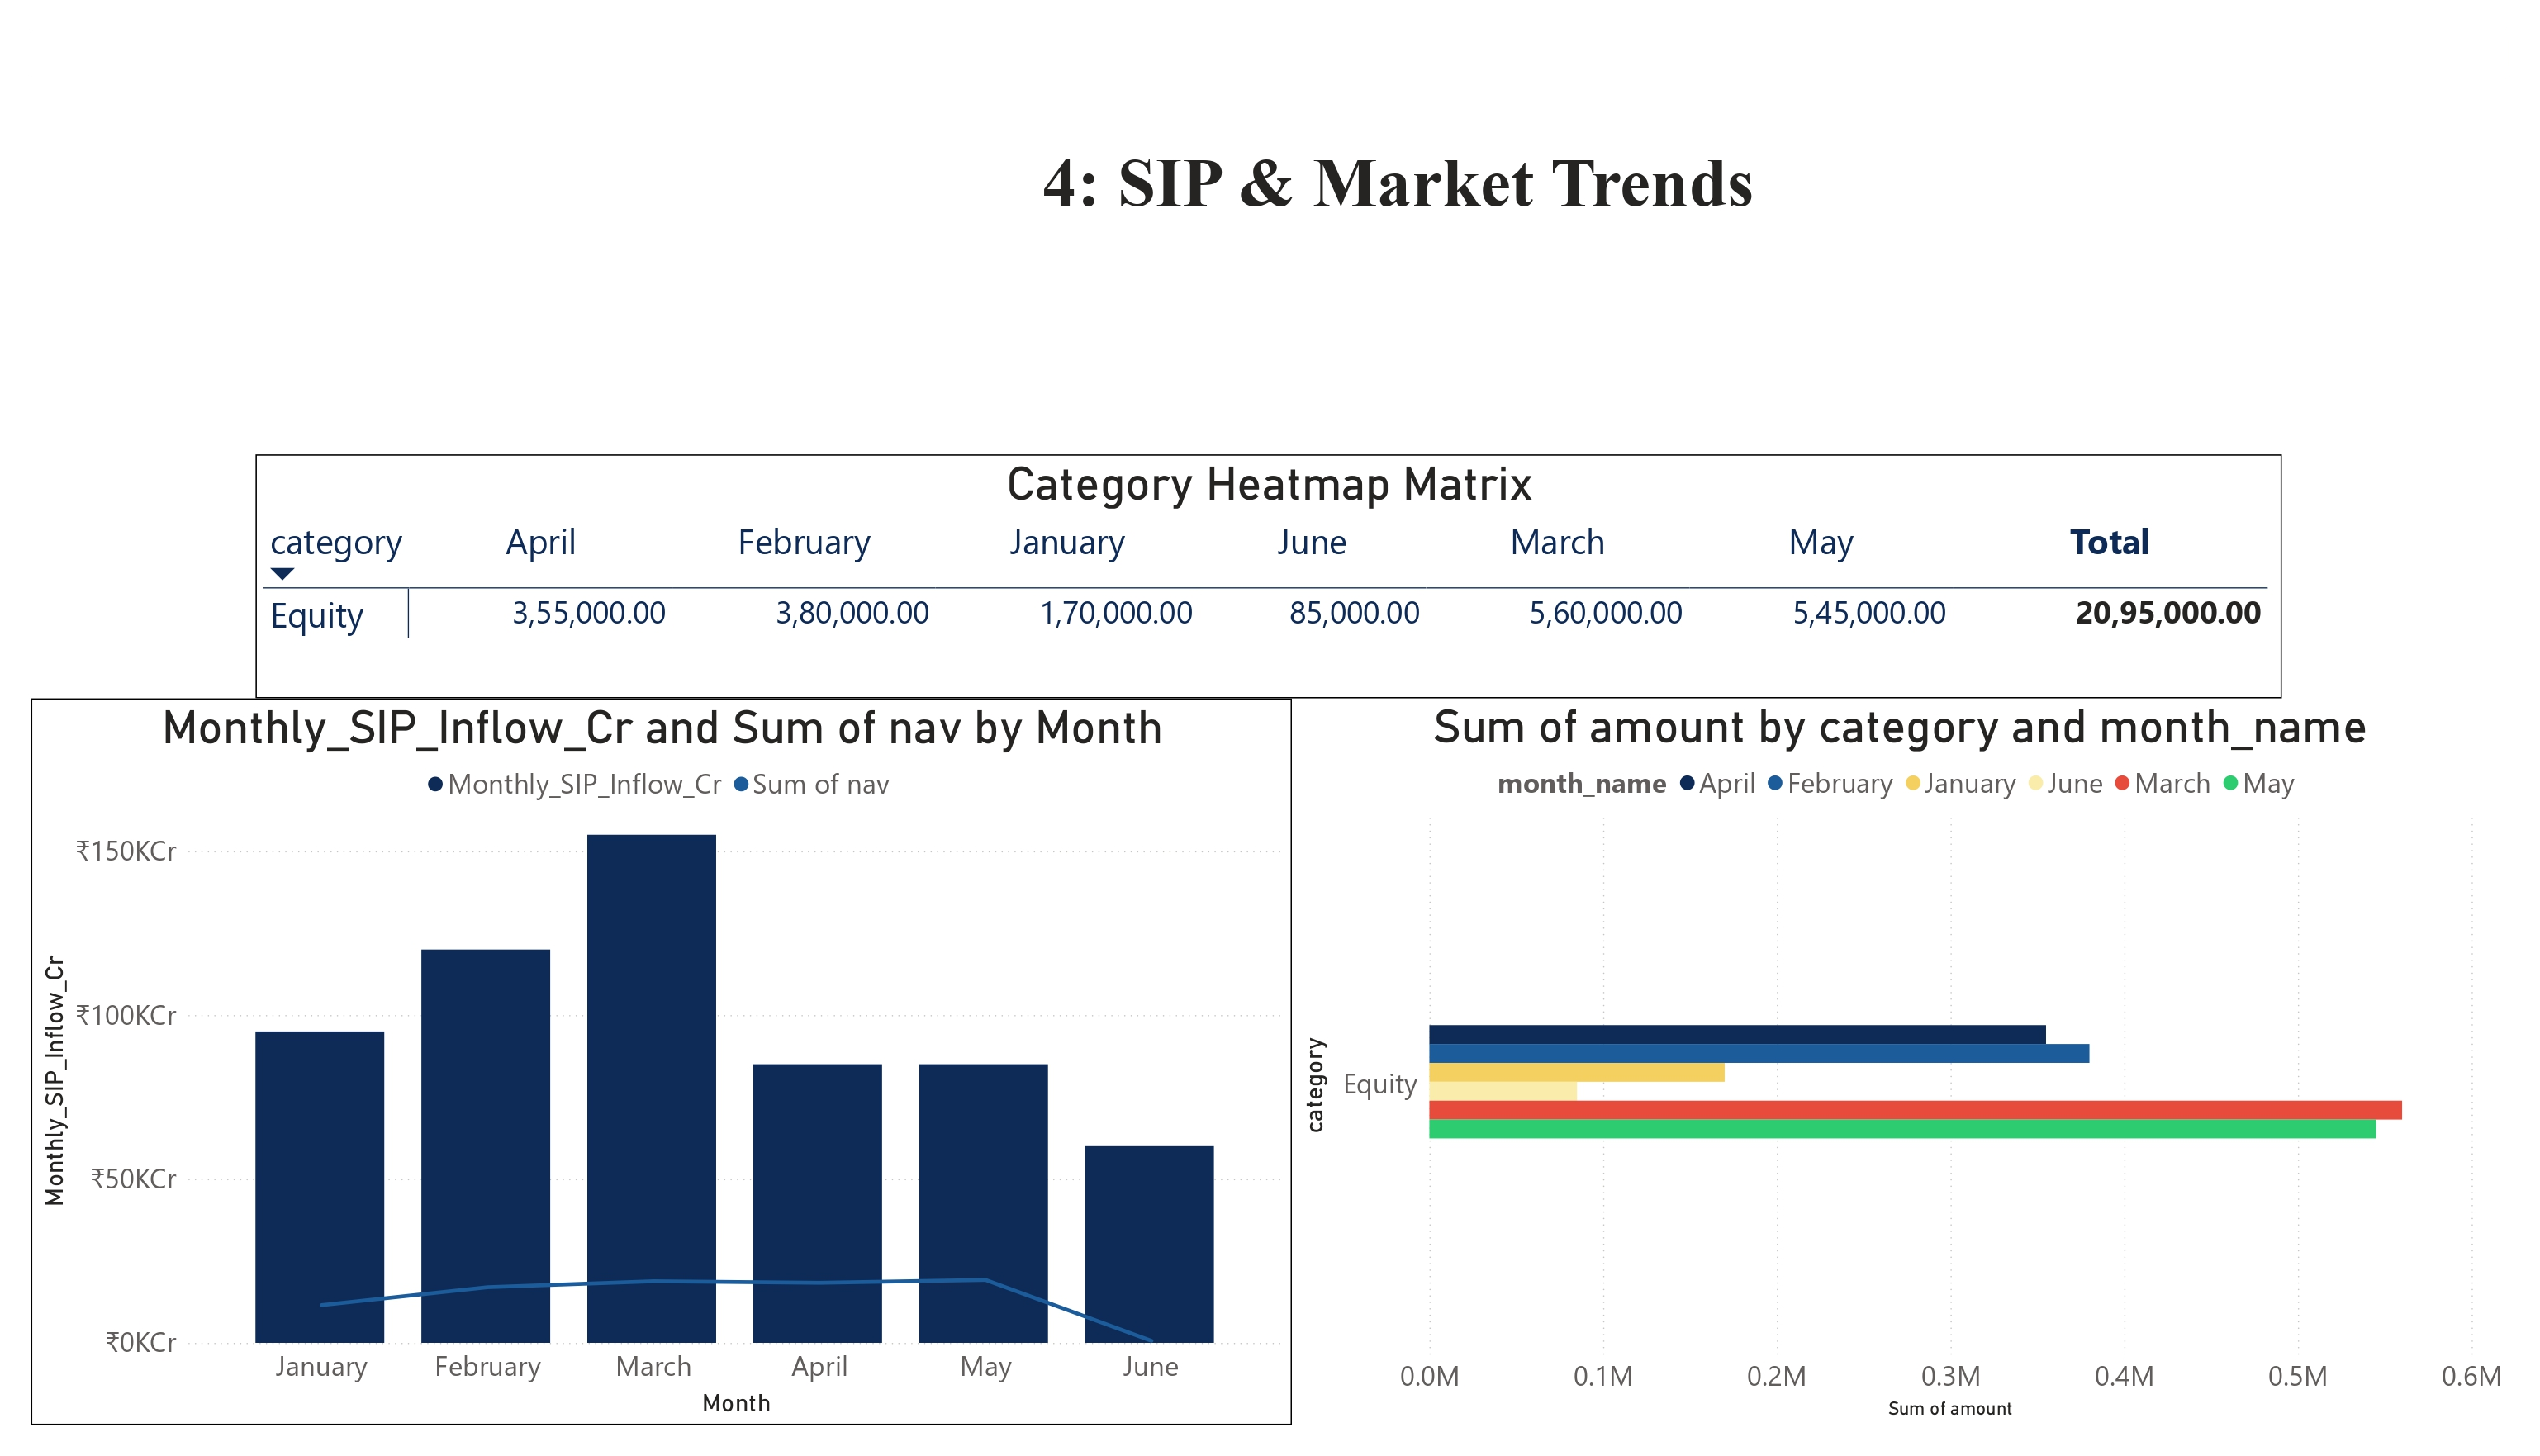

This screenshot's page, from the dashboard's own definition file:
{"tool":"powerbi","page":{"name":"Page 4: SIP & Market Trends","canvas":[1920,1080],"ordinal":3},"visuals":[{"type":"lineStackedColumnComboChart","fields":{"Category":["dim_date.date_key.Variation.Date Hierarchy.Month"],"Y":["dim_fund.Monthly_SIP_Inflow_Cr"],"Y2":["Sum(fact_nav.nav)"]},"box":[0,516.8,977.4,563.4],"z":0},{"type":"clusteredBarChart","fields":{"Category":["dim_fund.category"],"Series":["dim_date.month_name"],"Y":["Sum(fact_transactions.amount)"]},"box":[977.4,516.8,943.1,563.4],"z":1000},{"type":"pivotTable","title":"Category Heatmap Matrix","fields":{"Columns":["dim_date.month_name"],"Rows":["dim_fund.category"],"Values":["Sum(fact_transactions.amount)"]},"box":[173.9,328.2,1570.1,188.6],"z":1001},{"type":"textbox","box":[632,80.8,854.9,88.2],"z":1002}]}

Visuals, with their boxes on the page's 1920x1080 design canvas (x1, y1, x2, y2). These are canvas units, not pixel positions in the 2540x1456 screenshot, which may show the page scaled, cropped or inside an application window:
lineStackedColumnComboChart - dim_date.date_key.Variation.Date Hierarchy.Month x dim_fund.Monthly_SIP_Inflow_Cr: 0/517/977/1080
clusteredBarChart - dim_fund.category x dim_date.month_name: 977/517/1920/1080
"Category Heatmap Matrix" pivotTable: 174/328/1744/517
textbox: 632/81/1487/169
